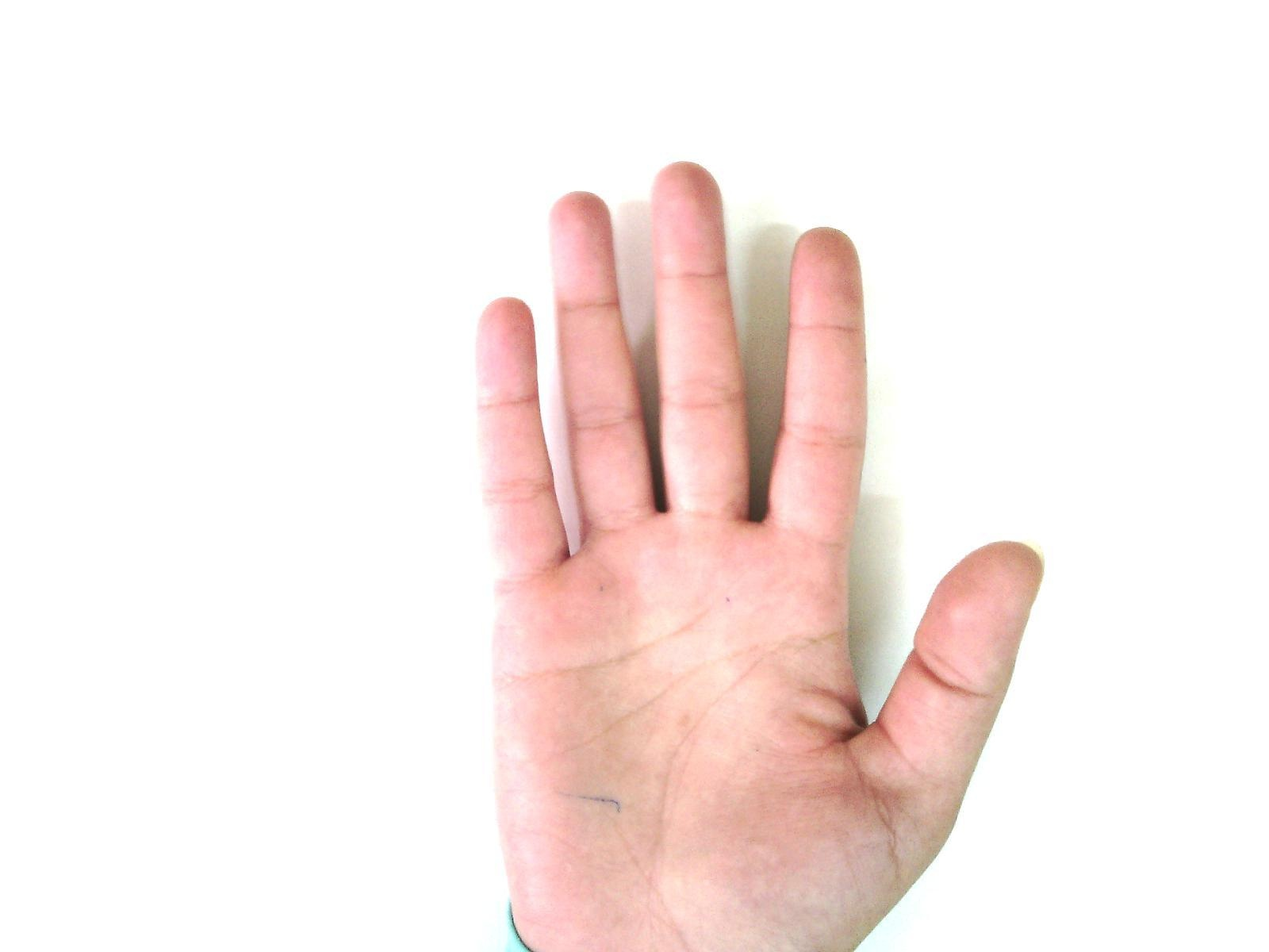open_palm: (470, 160, 1046, 951)
